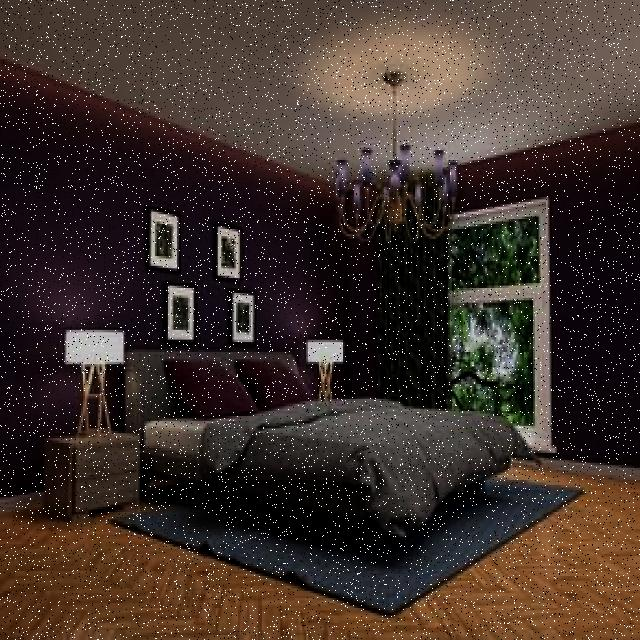bed: (134, 346, 483, 534)
